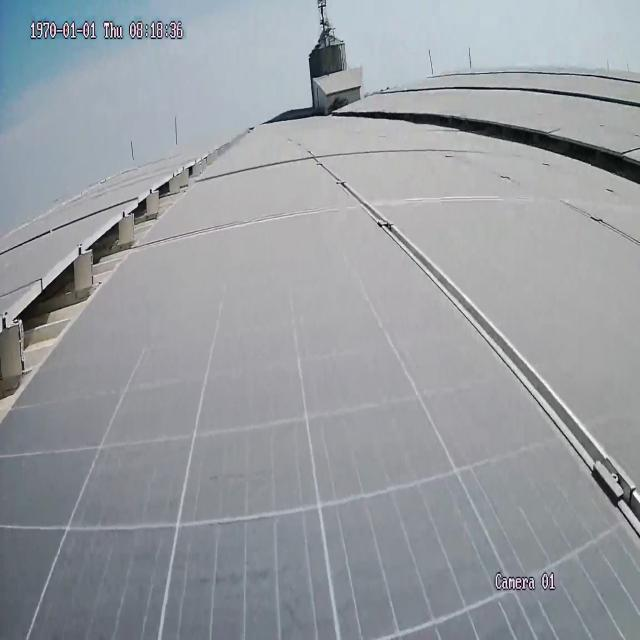interior panel: (310, 157, 640, 540)
outher panel: (1, 145, 226, 421), (365, 109, 639, 187)
